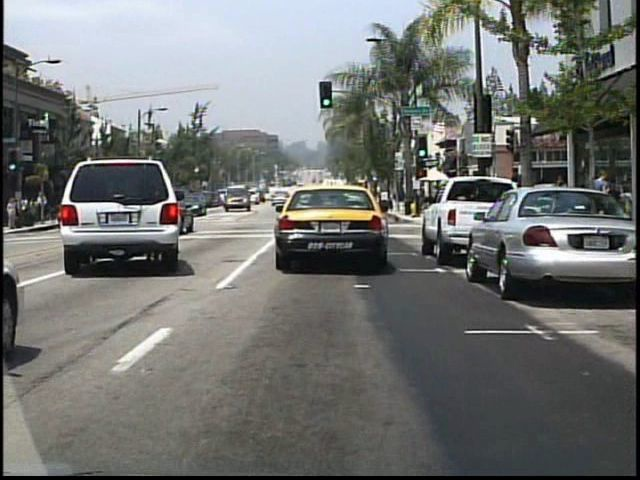person: (550, 173, 574, 235), (591, 170, 612, 232), (7, 195, 21, 231), (37, 191, 49, 223)
